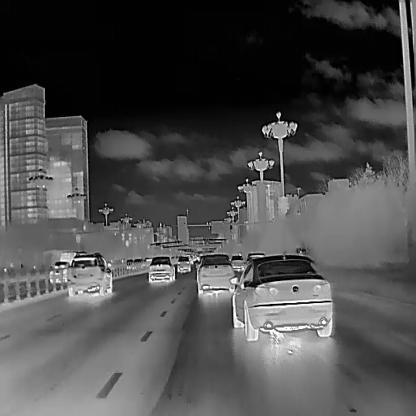car: (232, 254, 333, 341), (67, 252, 113, 297), (196, 253, 234, 293), (147, 255, 175, 286), (50, 262, 69, 285), (176, 255, 190, 273), (230, 254, 243, 270), (133, 257, 141, 269), (126, 258, 135, 268)
